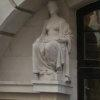Statue: (26, 1, 77, 78)
